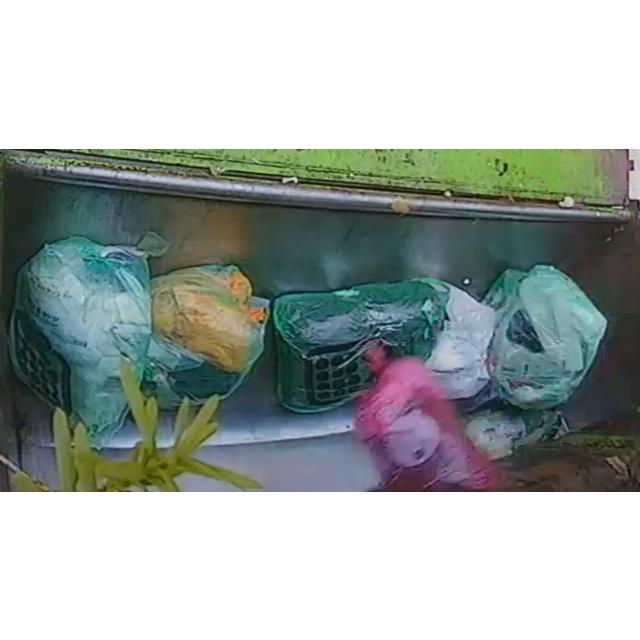general_trashbag: (9, 236, 151, 446), (421, 264, 606, 408), (272, 279, 449, 412), (141, 264, 269, 407)
other_trashbag: (355, 344, 492, 490)
